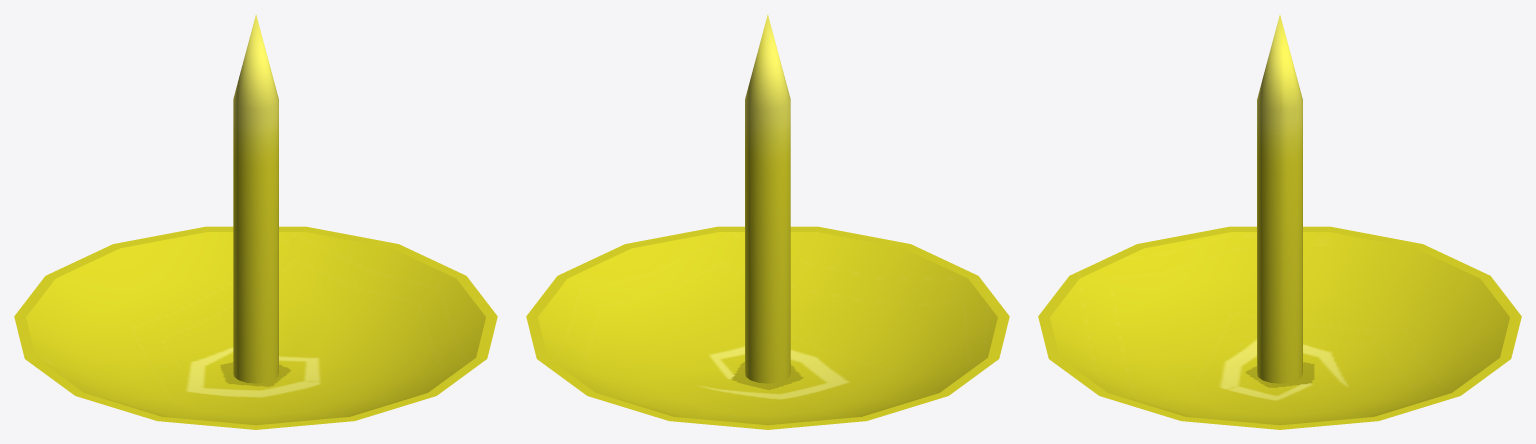
File: pinndone.fbx
The picture shows the model from 3 angles, left to right: view 1: azimuth 30°, elevation 25°; view 2: azimuth 150°, elevation 25°; view 3: azimuth 270°, elevation 25°; orthographic projection.
Parts seen in each view (by area): view 1: pCone2; view 2: pCone2; view 3: pCone2.
Part boxes in pixels (left/top/right/bottom): pCone2: left=14, top=14, right=497, bottom=429; pCone2: left=526, top=14, right=1009, bottom=429; pCone2: left=1038, top=15, right=1521, bottom=429.
Size of the model in its own units: 10.16 by 8.46 by 10.21.
